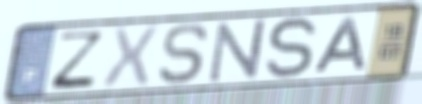A: (310, 15, 369, 76)
N: (207, 17, 268, 86)
S: (263, 14, 321, 82), (155, 22, 212, 87)
X: (99, 23, 162, 92)
Z: (46, 30, 107, 92)
